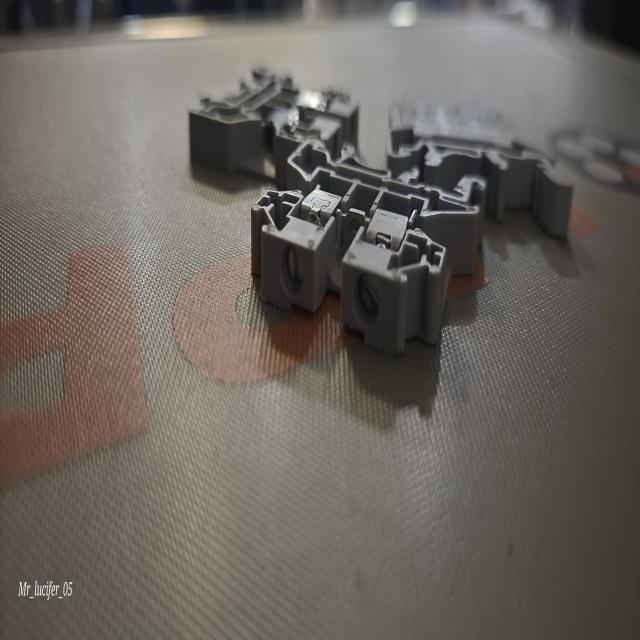Pass: (240, 109, 490, 404)
